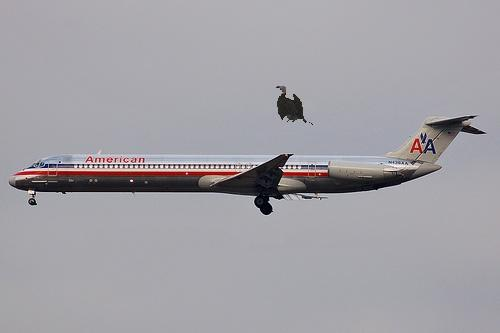tampered: (277, 87, 331, 125)
